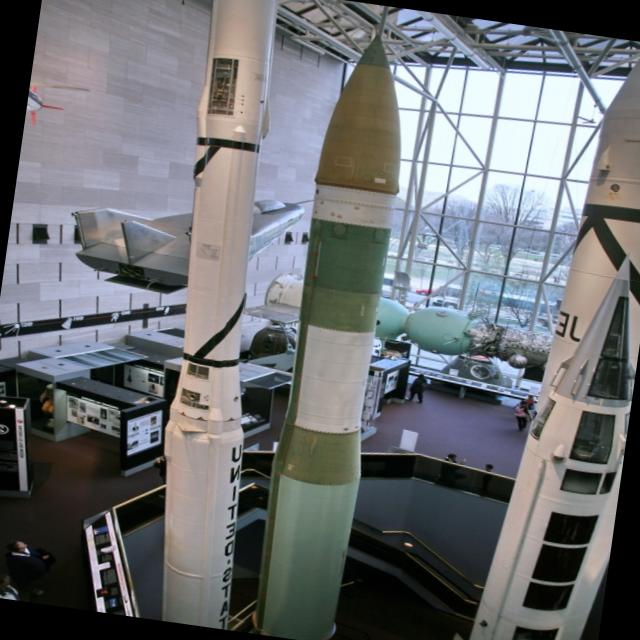rocket: (237, 17, 422, 640)
